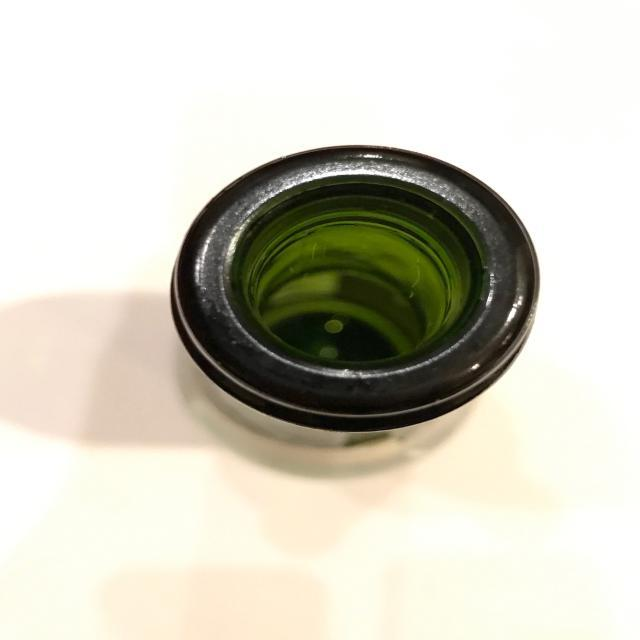glass: (166, 142, 544, 450)
